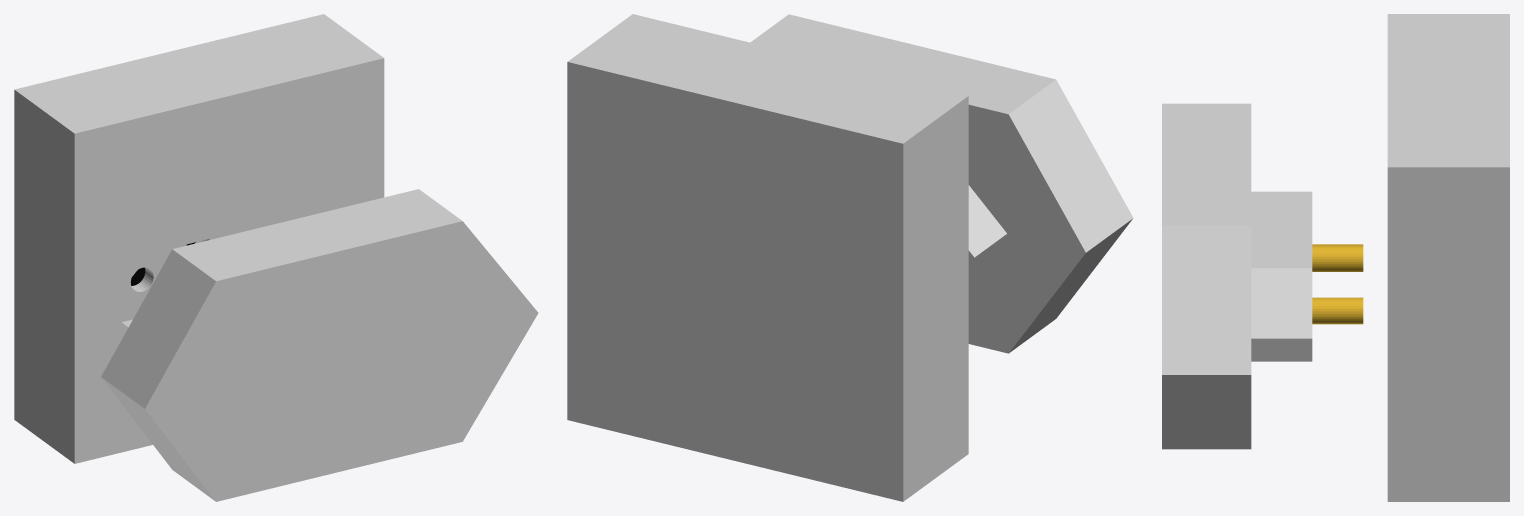
The model's file is Tomada.fbx.
3 renders of one model, left to right at view 1: azimuth 30°, elevation 25°; view 2: azimuth 150°, elevation 25°; view 3: azimuth 270°, elevation 25°, orthographic. The views are drawn at different scales.
Parts seen in each view (by area): view 1: Tomada, Conector; view 2: Tomada, Conector; view 3: Tomada, Conector.
Part boxes in pixels (bbox=[...]): Tomada: bbox=[14, 14, 384, 463]; Conector: bbox=[101, 189, 538, 501]; Tomada: bbox=[567, 14, 968, 501]; Conector: bbox=[750, 14, 1133, 353]; Tomada: bbox=[1387, 14, 1509, 501]; Conector: bbox=[1162, 103, 1363, 449].
Bounding box in the file's own units: 155 × 124 × 117.
